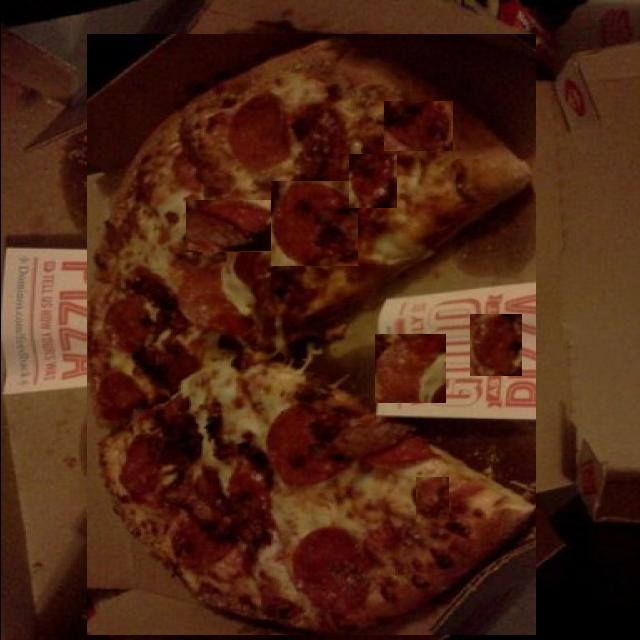pepperoni: (270, 181, 356, 266), (251, 54, 332, 142), (329, 499, 396, 576), (374, 334, 444, 403), (185, 200, 272, 252), (383, 101, 451, 151), (469, 314, 520, 376), (455, 172, 503, 236), (476, 250, 528, 300), (348, 154, 395, 208), (415, 477, 447, 518)
pizza: (84, 34, 534, 635)
